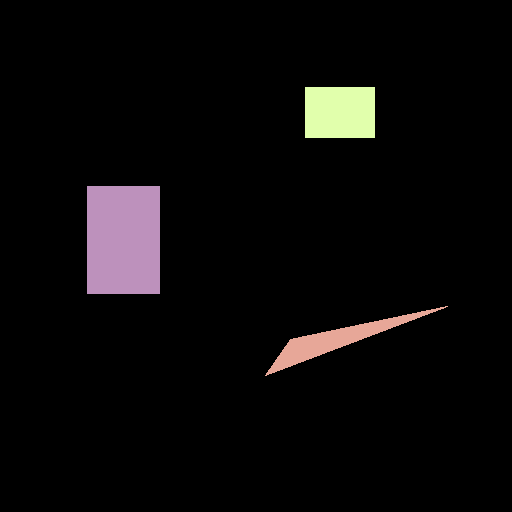rectangle: (87, 186, 159, 293), (305, 87, 374, 137)
triangle: (265, 306, 447, 375)
